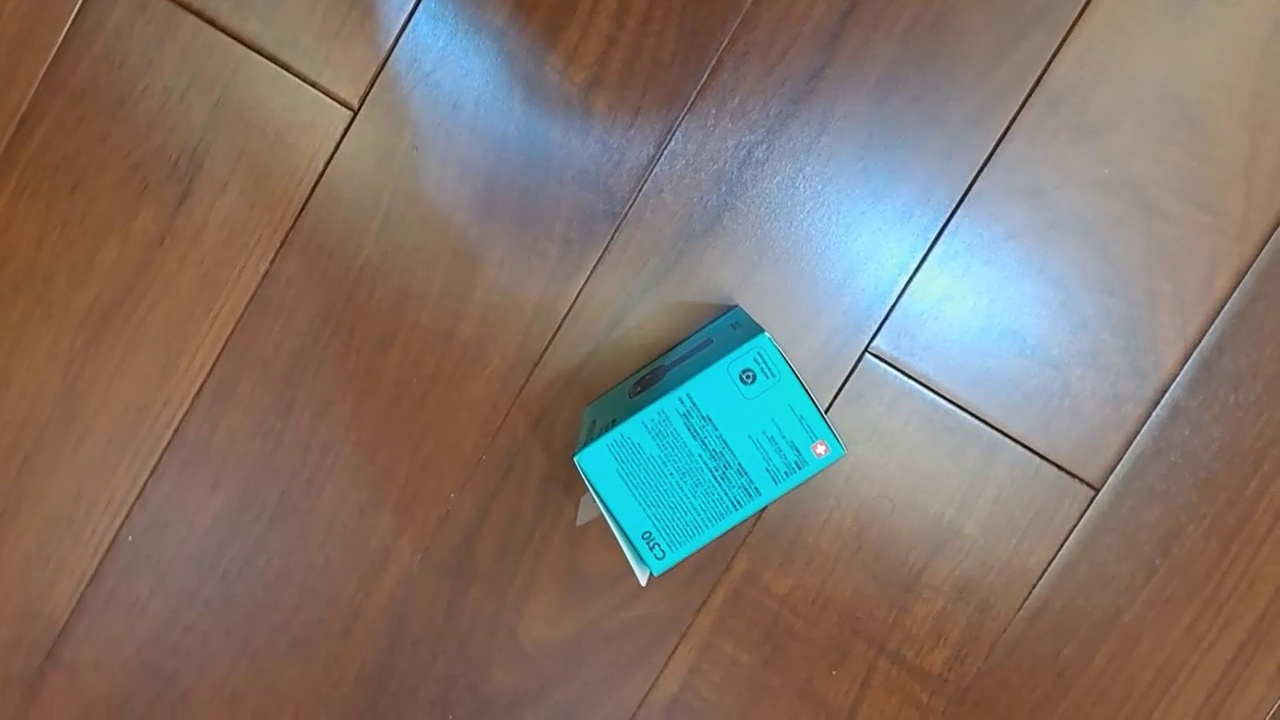webcam: (571, 303, 848, 588)
